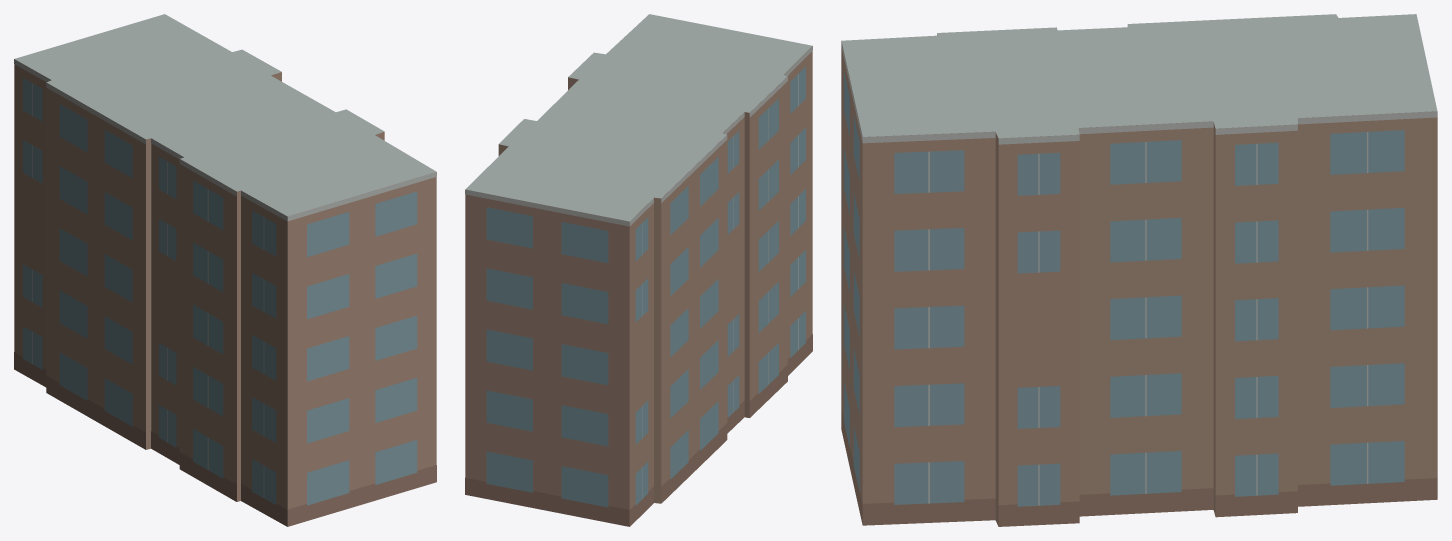
The model's file is survey-upis-32982222.glb.
3 views of the same model, side by side, from view 1: azimuth 30°, elevation 25°; view 2: azimuth 150°, elevation 25°; view 3: azimuth 270°, elevation 25° (orthographic). The views are drawn at different scales.
Parts seen in each view (by area): view 1: survey-upis-32982222.tmp; view 2: survey-upis-32982222.tmp; view 3: survey-upis-32982222.tmp.
Part boxes in pixels (bbox=[...]): survey-upis-32982222.tmp: bbox=[14, 14, 436, 526]; survey-upis-32982222.tmp: bbox=[465, 14, 812, 526]; survey-upis-32982222.tmp: bbox=[841, 14, 1437, 526].
Size of the model in its own units: 10.34 by 15.05 by 20.94.
